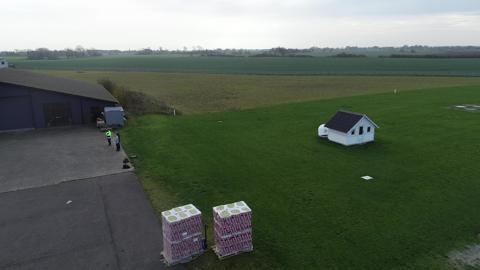RockwoolPallet: (212, 199, 254, 259)
